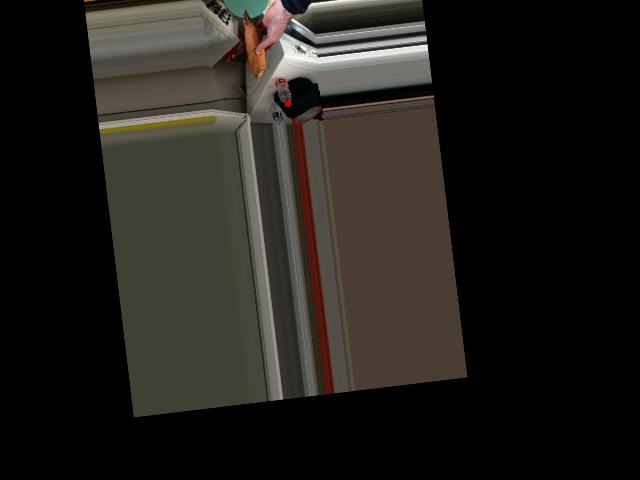sweet_potato: (240, 12, 270, 74)
